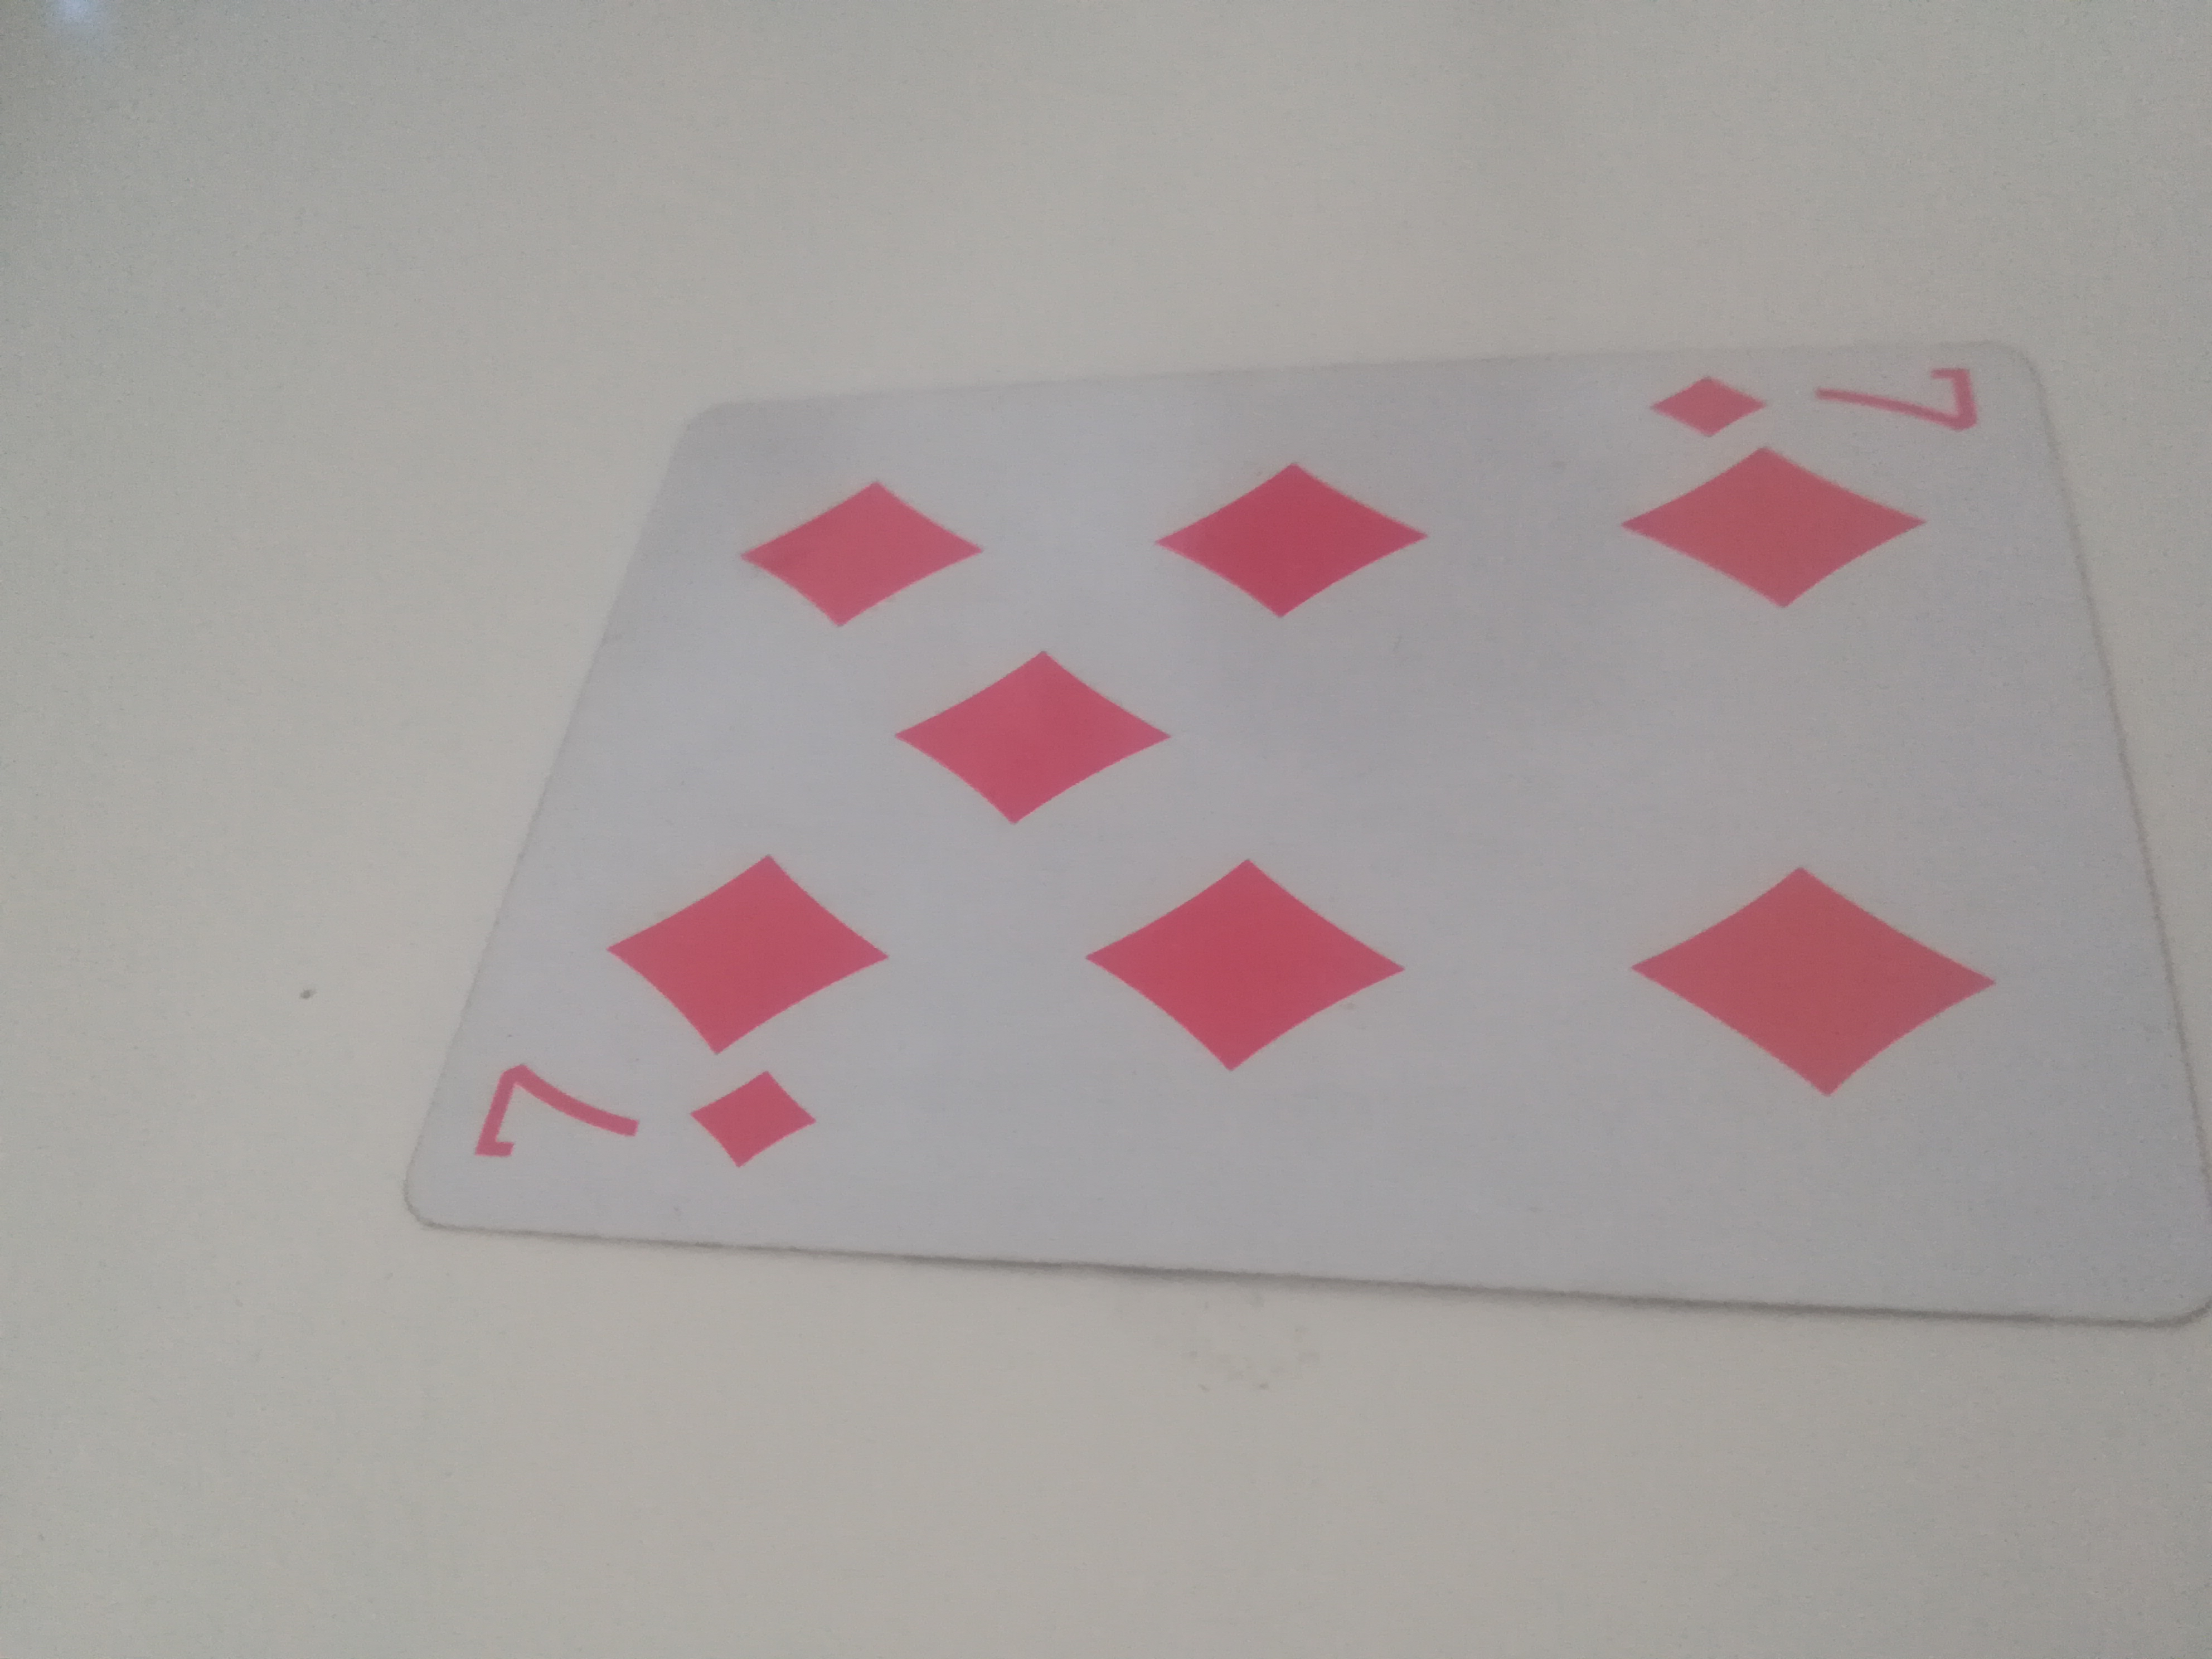7D: (397, 333, 2195, 1293)
